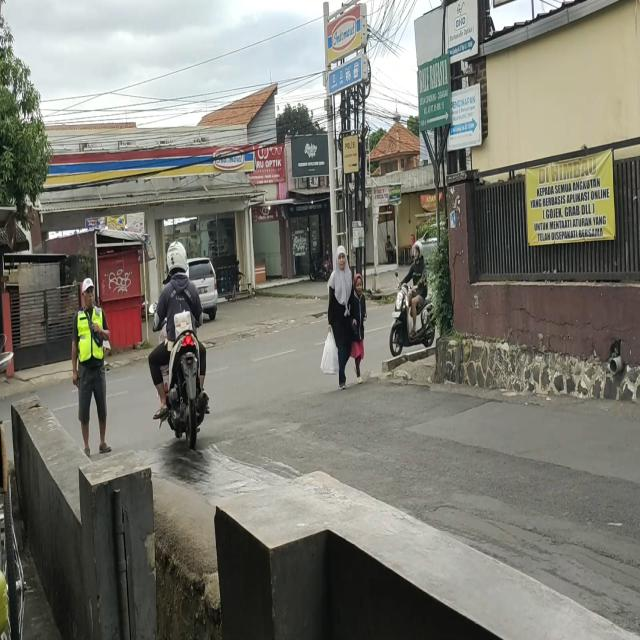helmet: (168, 240, 186, 274), (414, 242, 424, 258)
